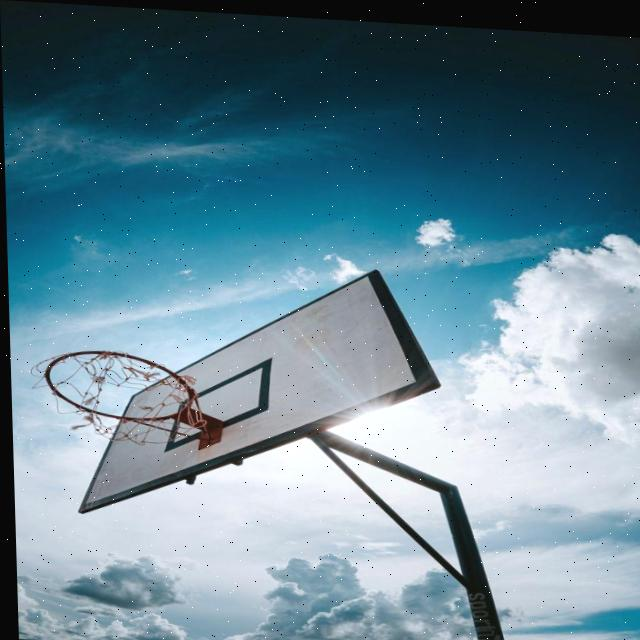hoop: (11, 312, 253, 460)
